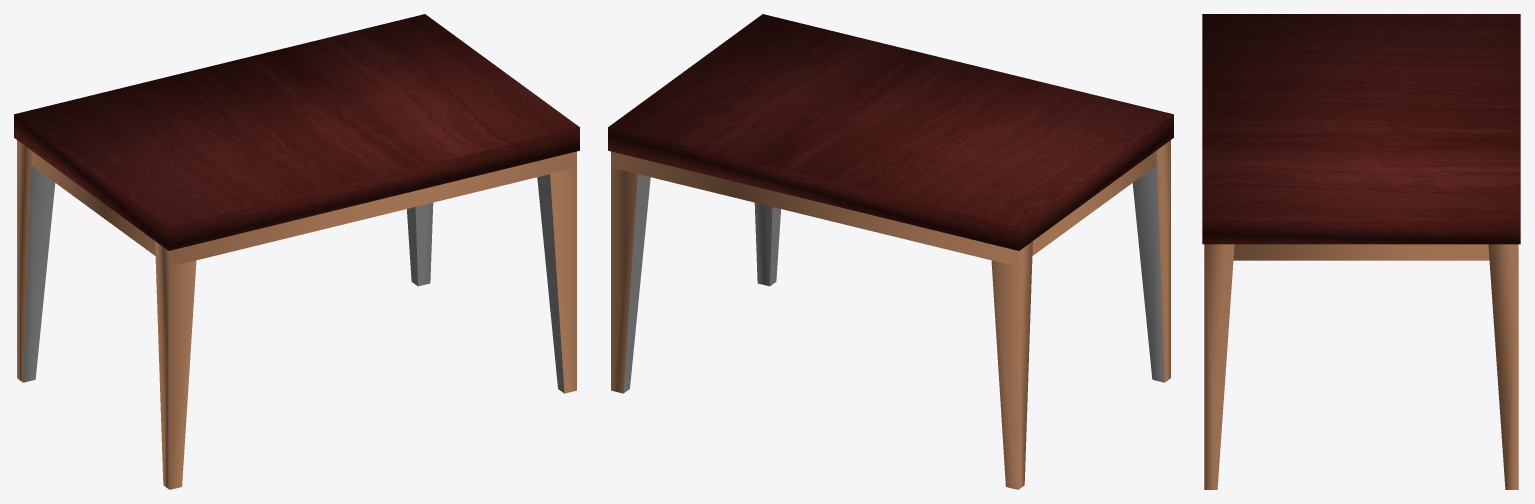
The model's file is chajizi.obj.
The picture shows the model from 3 angles, left to right: view 1: azimuth 30°, elevation 25°; view 2: azimuth 150°, elevation 25°; view 3: azimuth 270°, elevation 25°; orthographic projection. The views are drawn at different scales.
Visible parts, largest first — view 1: Box1719, Box1723; view 2: Box1719, Box1723; view 3: Box1719, Box1723.
Boxes of the visible parts, <box> form: Box1719: <box>14,14,579,250</box>; Box1723: <box>17,140,576,489</box>; Box1719: <box>608,14,1173,250</box>; Box1723: <box>611,140,1170,489</box>; Box1719: <box>1202,14,1520,244</box>; Box1723: <box>1204,244,1518,489</box>.
Size of the model in its own units: 64.42 by 39.47 by 42.
3 materials, 1 textured.
